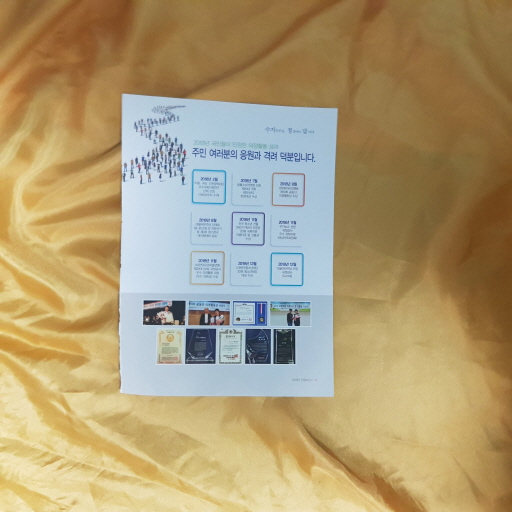Paper_2: (112, 81, 356, 411)
